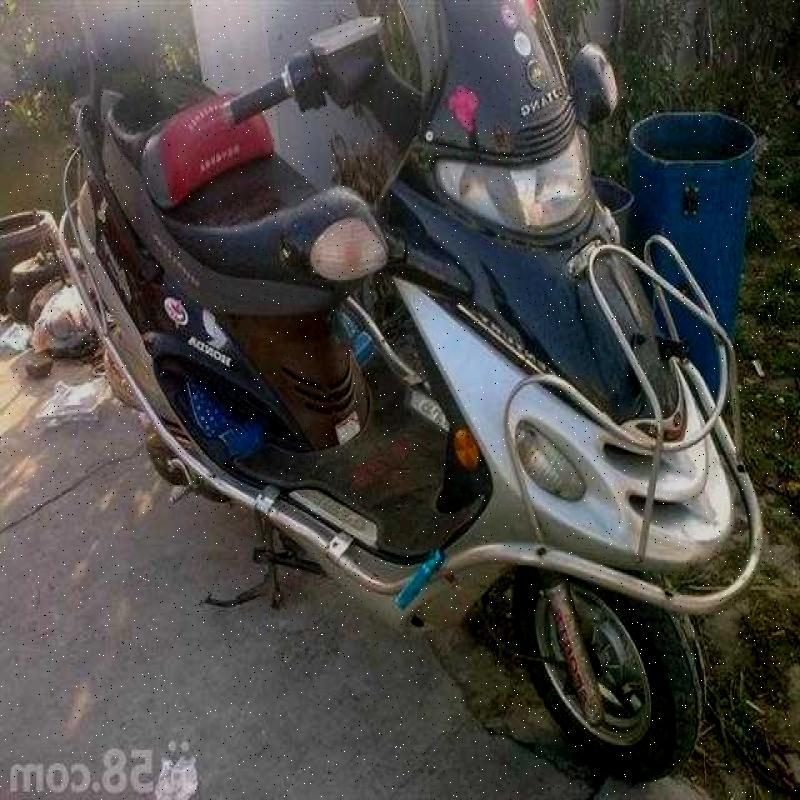bike: (127, 5, 756, 800)
